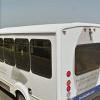Bus: (4, 20, 96, 100)
